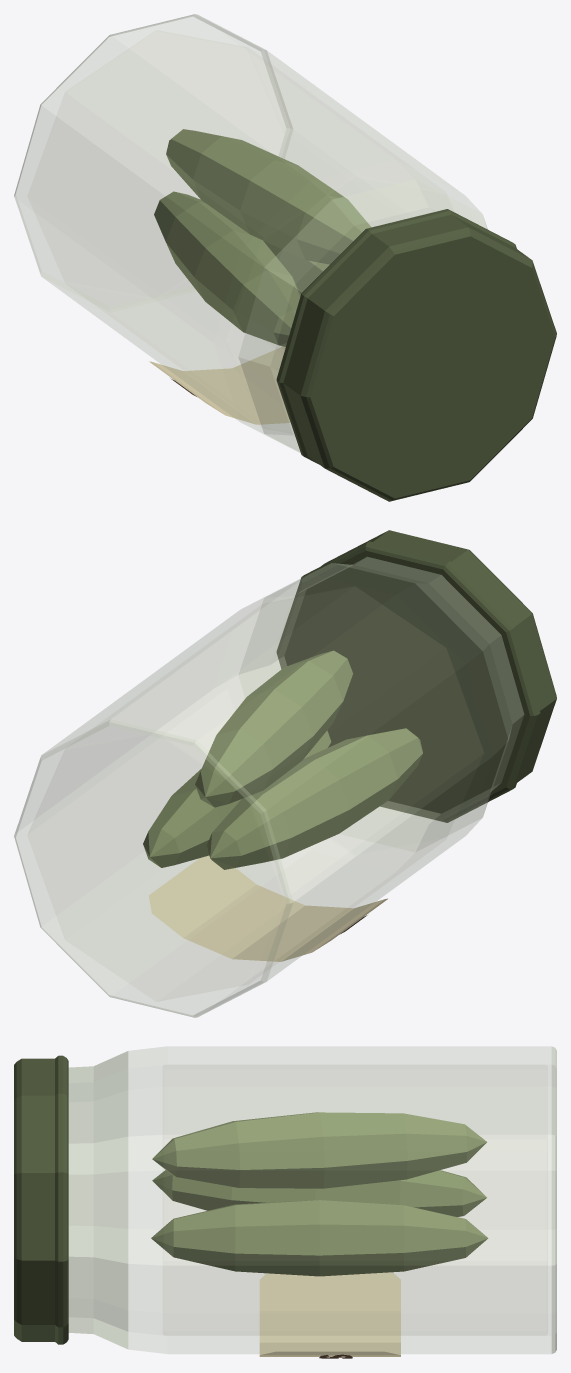
File: pickles_jar.glb
The picture shows the model from 3 angles, top to bottom: view 1: azimuth 30°, elevation 25°; view 2: azimuth 150°, elevation 25°; view 3: azimuth 270°, elevation 25°; orthographic projection. The views are drawn at different scales.
Visible parts, largest first — view 1: pickles_jar; view 2: pickles_jar; view 3: pickles_jar.
Part boxes in pixels (<box>): pickles_jar: <box>14,14,556,501</box>; pickles_jar: <box>14,530,556,1017</box>; pickles_jar: <box>14,1046,556,1358</box>.
Size of the model in its own units: 0.068 by 0.0671 by 0.119.
